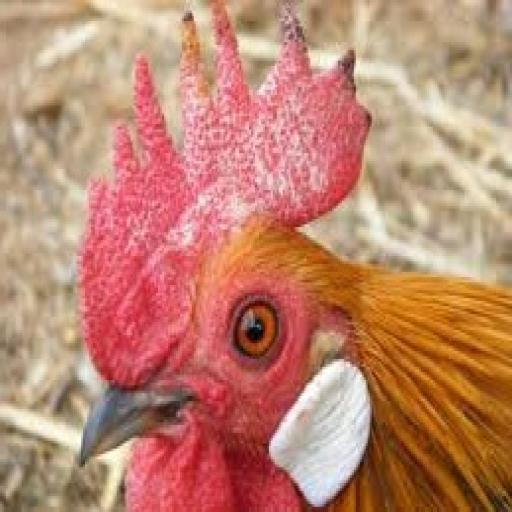disease: (158, 5, 390, 171), (134, 178, 336, 244)
